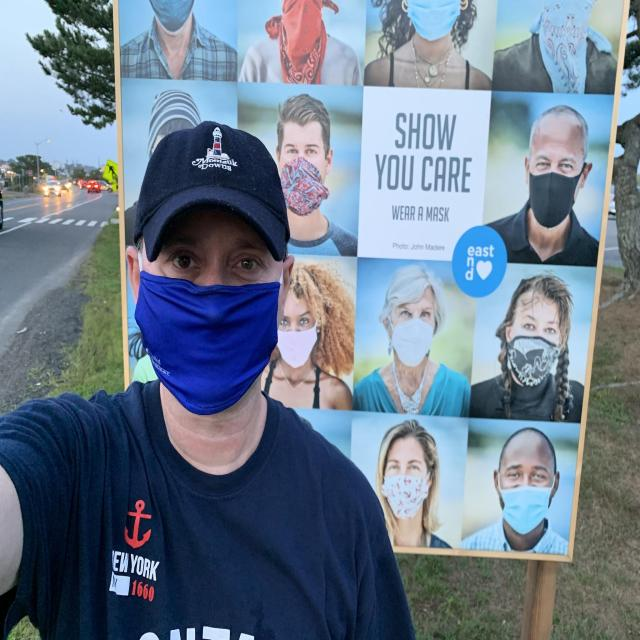Mask: (134, 269, 280, 414)
